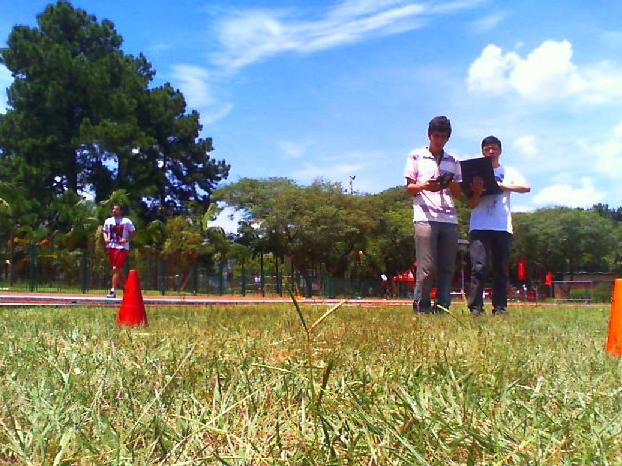0 cone: (118, 270, 149, 330), (606, 278, 622, 355)
